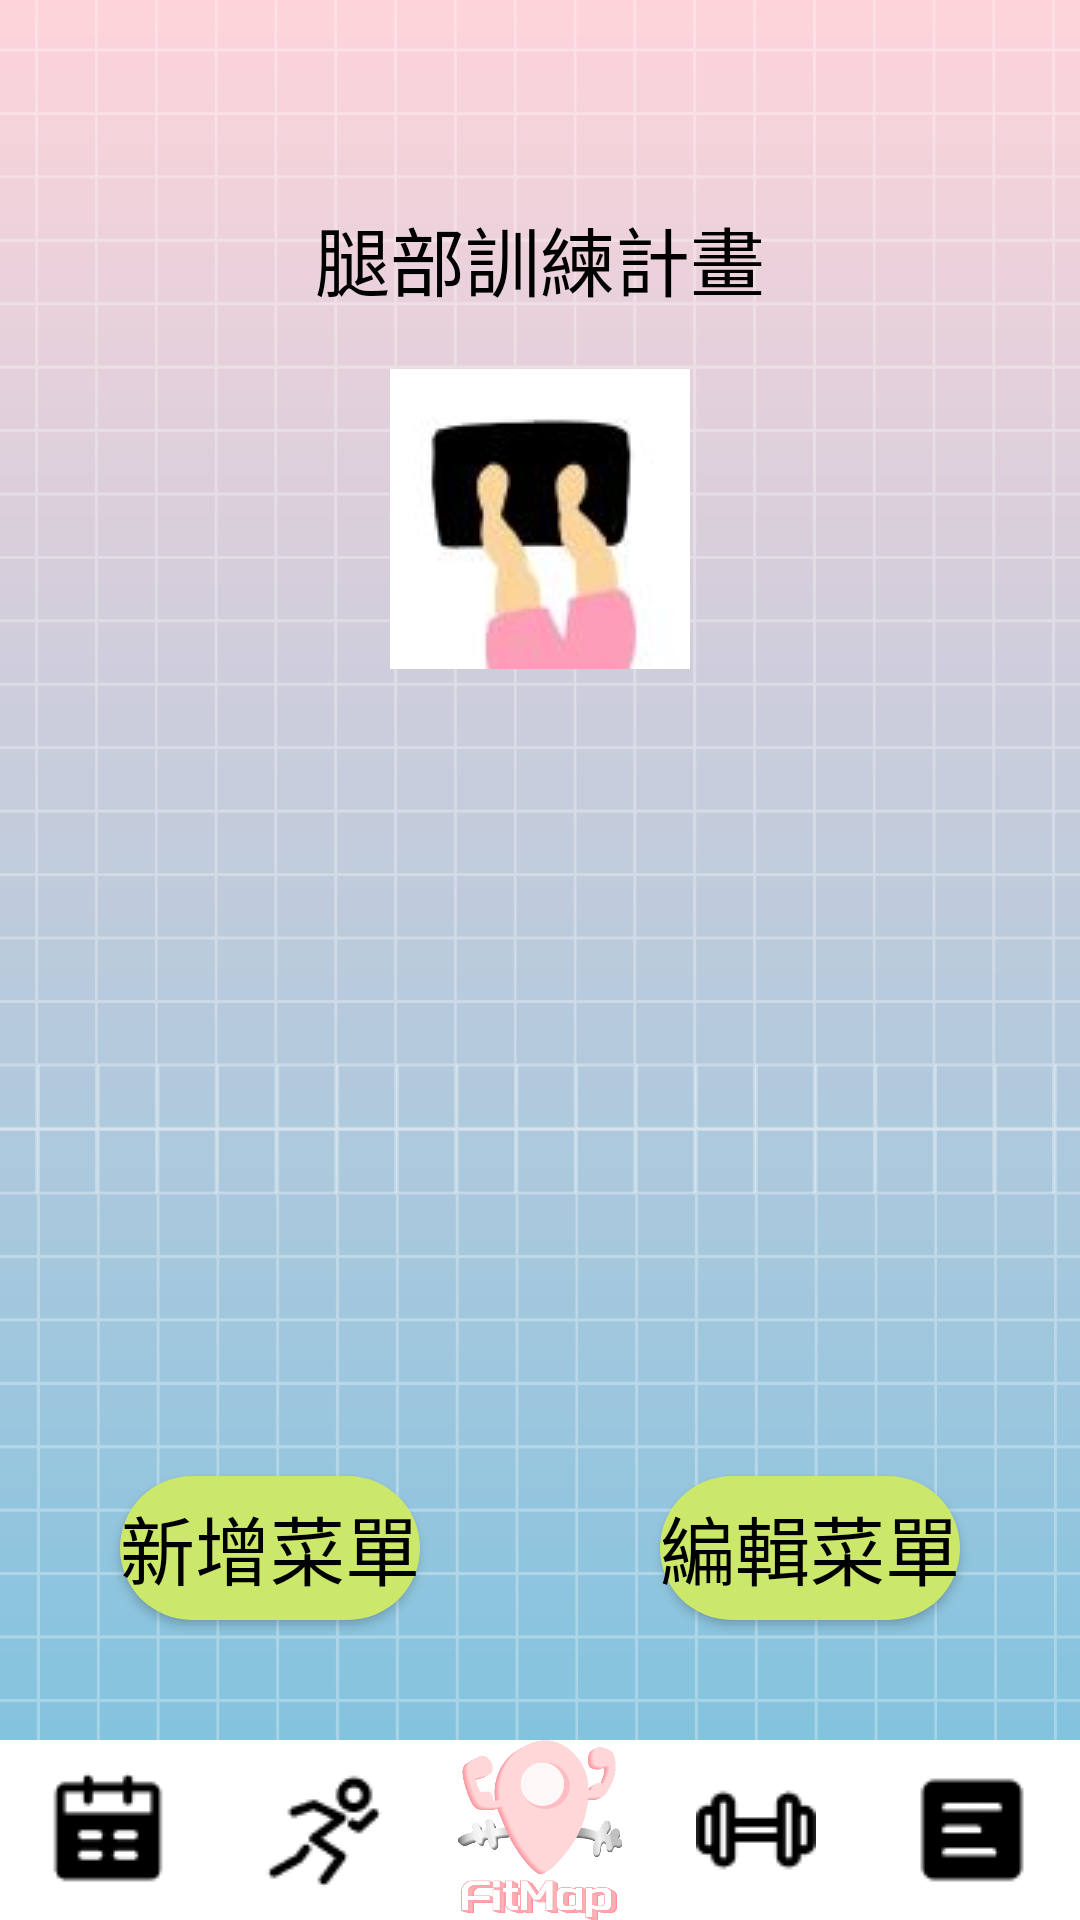

Screen size 1080 x 1920. Icon name, then its center in pixels as [x,y]:
article: [972,1830]
reservation: [108,1828]
run: [324,1830]
